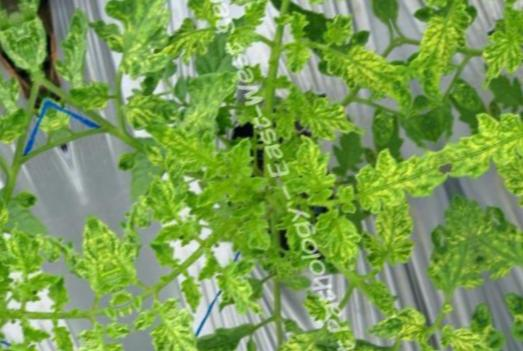Tomato leaf yellow virus: (143, 93, 258, 217), (326, 18, 427, 140), (395, 185, 489, 305), (80, 0, 227, 68), (344, 139, 453, 221), (80, 181, 151, 298), (266, 70, 359, 158), (38, 4, 113, 103), (127, 288, 223, 351), (359, 196, 430, 276), (160, 70, 241, 140), (308, 202, 368, 274), (281, 132, 341, 203), (362, 299, 433, 351), (211, 258, 267, 323), (441, 302, 508, 351), (262, 312, 345, 351), (224, 0, 283, 19)
